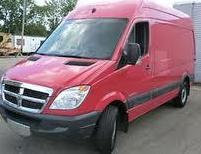front_view: (3, 75, 104, 146)
headlight: (48, 85, 97, 110)
side_glass: (116, 18, 155, 64)
